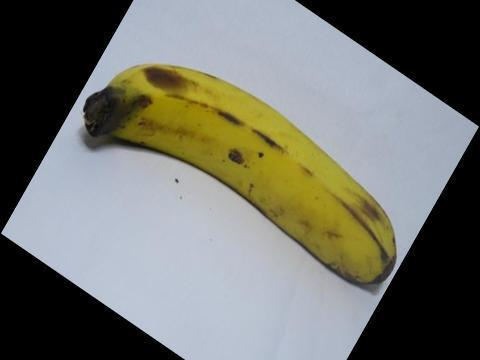ripe: (73, 50, 410, 295)
